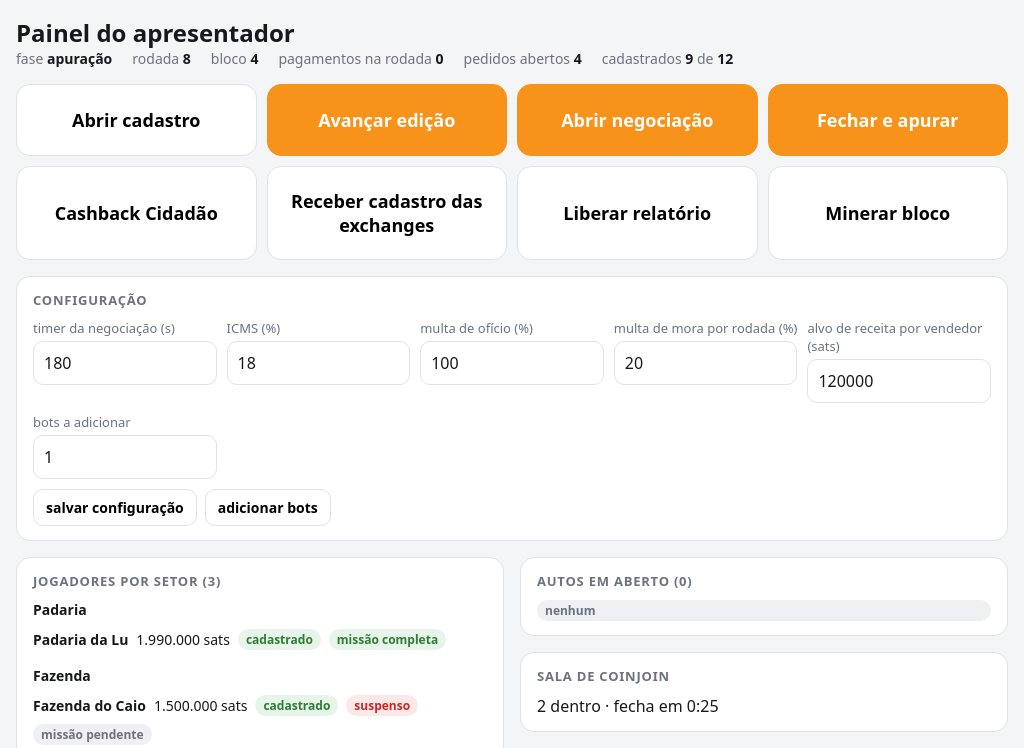
Scenario: Liberar relatório is enabled on the reveal of round 8
Click the button "Liberar relatório": (637, 213) left=517, top=166, right=758, bottom=260
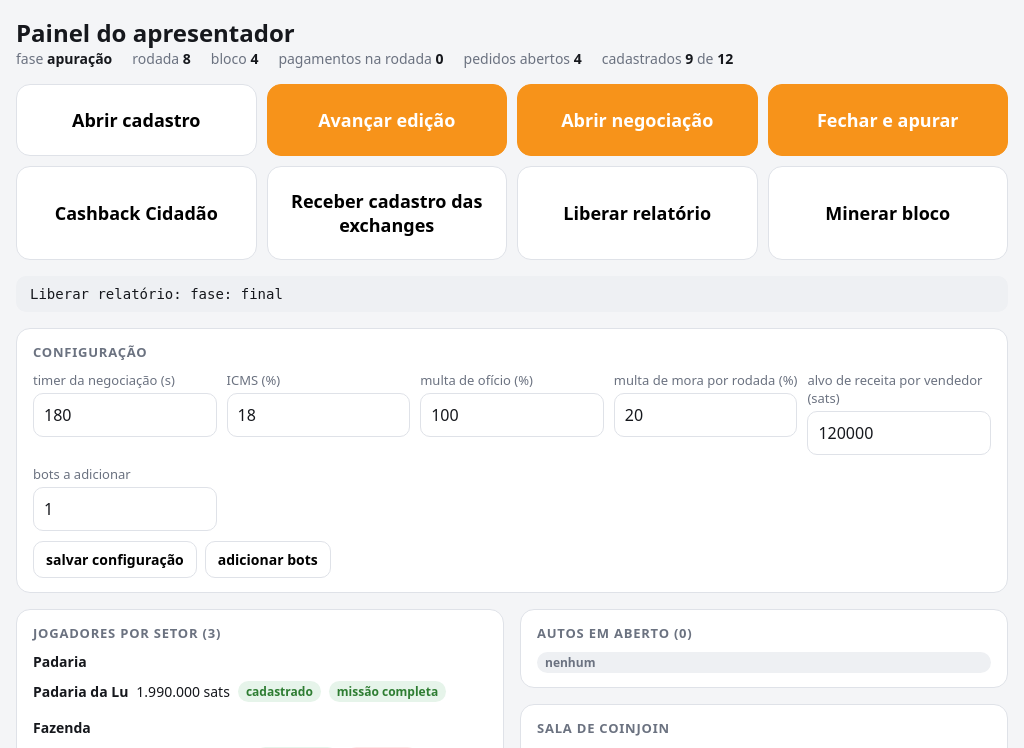
Check: the text "Liberar relatório: fase: final" is shown, box left=16, top=276, right=1008, bottom=312
